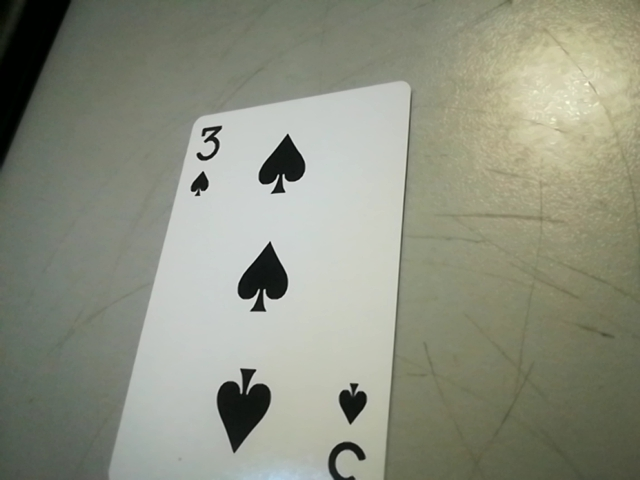ht 3: (178, 118, 233, 199)
